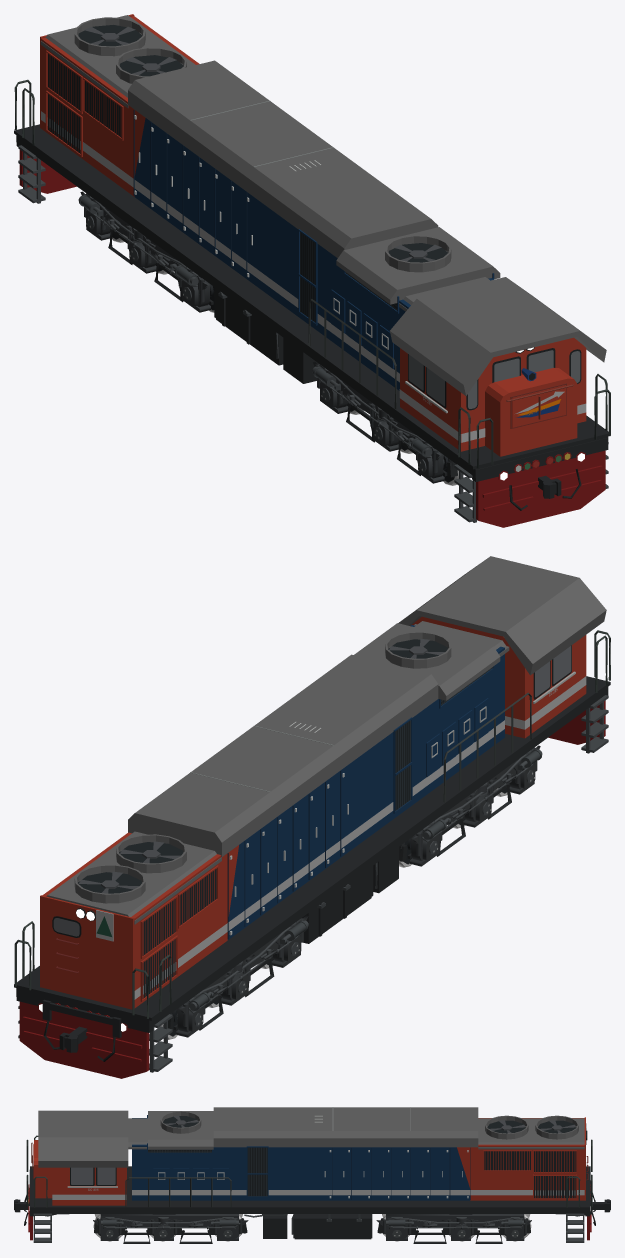
File: cc205-rebuild-medium-packed.glb
3 views of the same model, one above another, from view 1: azimuth 30°, elevation 25°; view 2: azimuth 150°, elevation 25°; view 3: azimuth 270°, elevation 25° (orthographic). The views are drawn at different scales.
Visible parts, largest first — view 1: locomotive-body, rail-bogie-1, rail-bogie--1; view 2: locomotive-body, rail-bogie-1, rail-bogie--1; view 3: locomotive-body, rail-bogie-1, rail-bogie--1.
Part boxes in pixels (x1,y1,x2,y2): locomotive-body: (14,14,610,527); rail-bogie-1: (312,361,457,483); rail-bogie--1: (78,191,214,312); locomotive-body: (14,556,610,1078); rail-bogie-1: (399,745,542,866); rail-bogie--1: (163,915,308,1037); locomotive-body: (24,1107,595,1242); rail-bogie-1: (93,1214,248,1243); rail-bogie--1: (376,1214,531,1243).
Size of the model in its own units: 2.86 by 3.56 by 16.93.
